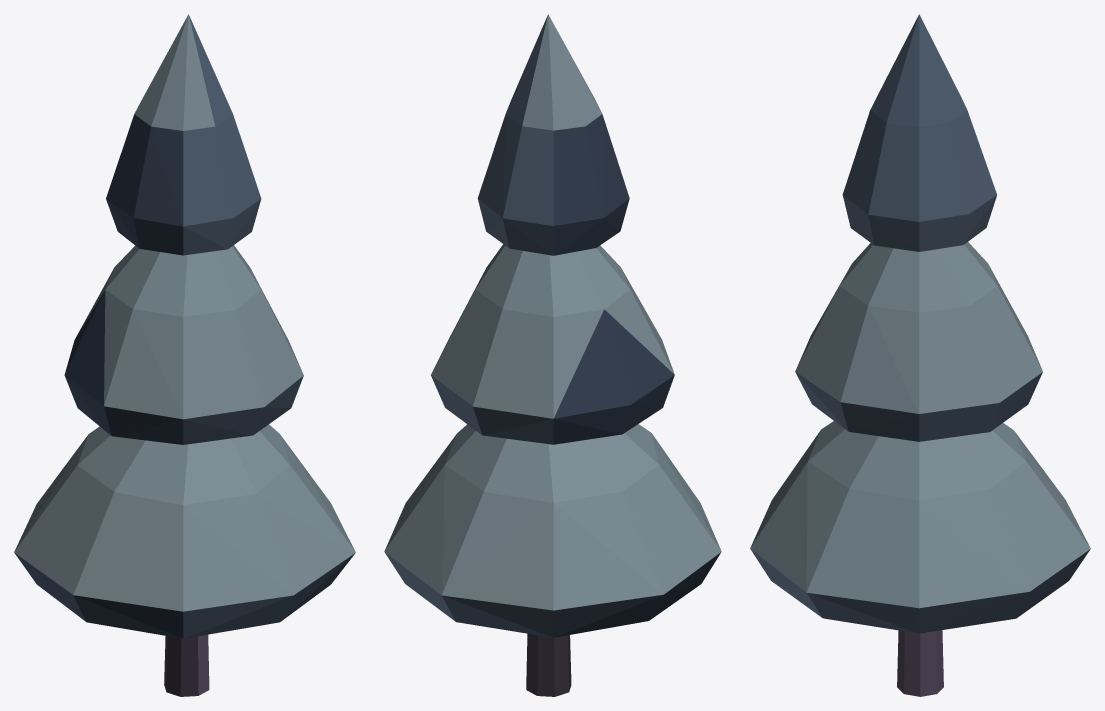
File: TW_TREE_TIERED_SLIM_A_LOD0.glb
The picture shows the model from 3 angles, left to right: view 1: azimuth 30°, elevation 25°; view 2: azimuth 150°, elevation 25°; view 3: azimuth 270°, elevation 25°; orthographic projection.
Parts seen in each view (by area): view 1: TW_TREE_TIERED_SLIM_A_LOD0; view 2: TW_TREE_TIERED_SLIM_A_LOD0; view 3: TW_TREE_TIERED_SLIM_A_LOD0.
Part boxes in pixels (bbox=[...]): TW_TREE_TIERED_SLIM_A_LOD0: bbox=[14, 14, 355, 696]; TW_TREE_TIERED_SLIM_A_LOD0: bbox=[384, 14, 721, 696]; TW_TREE_TIERED_SLIM_A_LOD0: bbox=[750, 14, 1090, 696].
Bounding box in the file's own units: 1.7 × 3.8 × 1.74.
Materials: 1 (1 with a texture image).
